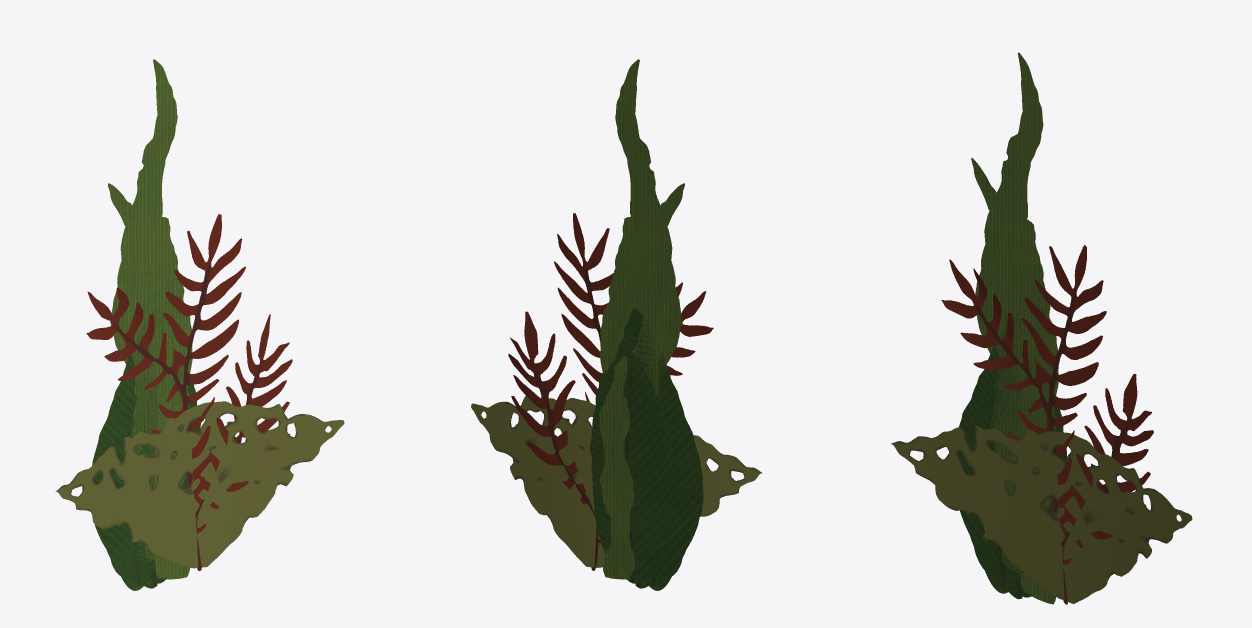
File: SM_Foliage.fbx
3 renders of one model, left to right at view 1: azimuth 30°, elevation 25°; view 2: azimuth 150°, elevation 25°; view 3: azimuth 330°, elevation 25°, orthographic. The views are drawn at different scales.
Visible parts, largest first — view 1: Foliage_Sponge_Fan, Foliage_Red_Fan, Foliage_Algae_2, Foliage_Leaf_1, Foliage_Algae_4, Foliage_Leaf_3, Foliage_Algae_3, Foliage_Algae_1; view 2: Foliage_Sponge_Fan, Foliage_Algae_2, Foliage_Leaf_2, Foliage_Red_Fan, Foliage_Leaf_1, Foliage_Algae_5, Foliage_Algae_1, Foliage_Algae_3, Foliage_Algae_4; view 3: Foliage_Sponge_Fan, Foliage_Algae_2, Foliage_Red_Fan, Foliage_Leaf_1, Foliage_Algae_3, Foliage_Algae_4, Foliage_Leaf_3.
Part boxes in pixels (box(x1,y1,x2,y2)): Foliage_Sponge_Fan: box(56, 401, 344, 568); Foliage_Red_Fan: box(86, 214, 292, 570); Foliage_Algae_2: box(119, 59, 192, 559); Foliage_Leaf_1: box(91, 308, 187, 590); Foliage_Algae_4: box(154, 276, 189, 578); Foliage_Leaf_3: box(109, 444, 186, 588); Foliage_Algae_3: box(108, 183, 172, 563); Foliage_Algae_1: box(146, 109, 176, 488); Foliage_Sponge_Fan: box(471, 396, 762, 567); Foliage_Algae_2: box(600, 59, 673, 394); Foliage_Leaf_2: box(590, 352, 670, 583); Foliage_Red_Fan: box(508, 213, 713, 570); Foliage_Leaf_1: box(614, 307, 703, 590); Foliage_Algae_5: box(599, 356, 635, 579); Foliage_Algae_1: box(613, 109, 648, 361); Foliage_Algae_3: box(631, 183, 684, 434); Foliage_Algae_4: box(608, 289, 624, 361); Foliage_Sponge_Fan: box(891, 425, 1192, 603); Foliage_Algae_2: box(983, 52, 1058, 570); Foliage_Red_Fan: box(941, 245, 1153, 604); Foliage_Leaf_1: box(957, 313, 1052, 593); Foliage_Algae_3: box(971, 158, 1033, 580); Foliage_Algae_4: box(1019, 284, 1055, 600); Foliage_Leaf_3: box(973, 502, 1052, 599).
Size of the model in its own units: 3.09 by 4.41 by 0.231.
